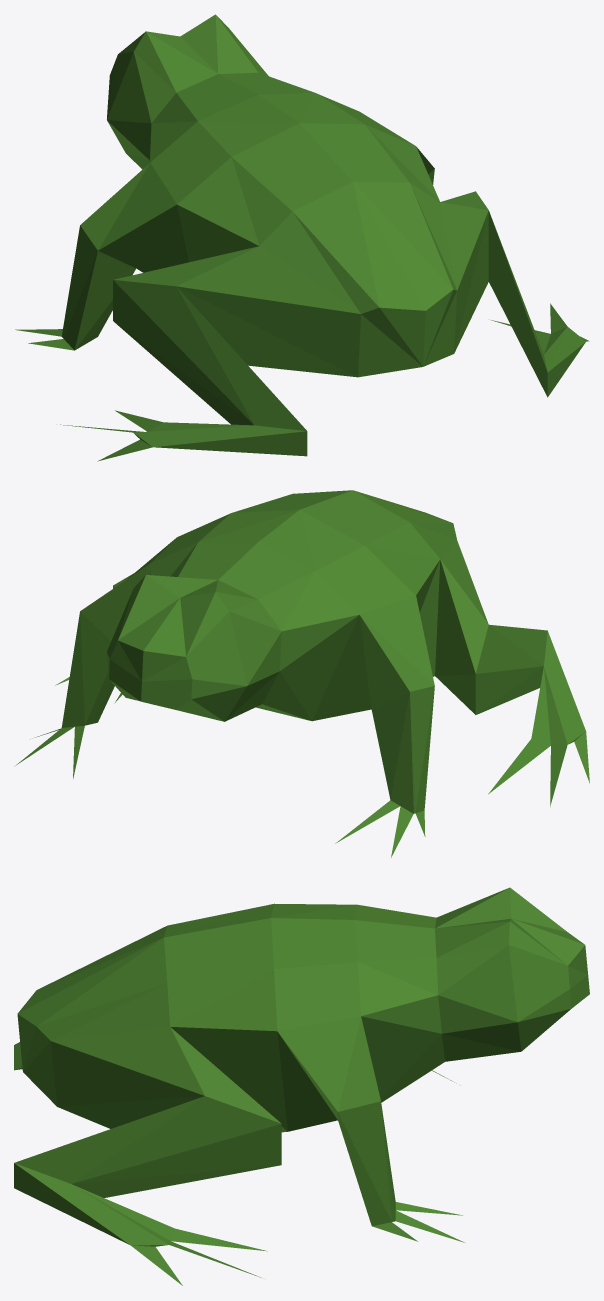
Rendered from Frog.dae.
3 renders of one model, top to bottom at view 1: azimuth 30°, elevation 25°; view 2: azimuth 150°, elevation 25°; view 3: azimuth 270°, elevation 25°, orthographic.
Visible parts, largest first — view 1: Plane; view 2: Plane; view 3: Plane.
Boxes of the visible parts, x1,y1,x2,y2 form: Plane: (15, 14, 589, 461); Plane: (14, 490, 589, 857); Plane: (14, 887, 589, 1285).
Size of the model in its own units: 3 by 3 by 1.5.
